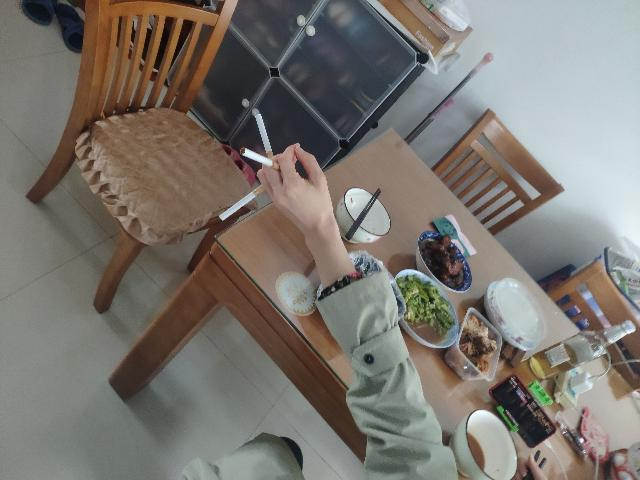Smoking: (218, 182, 268, 222), (256, 114, 278, 164), (240, 147, 282, 170)
